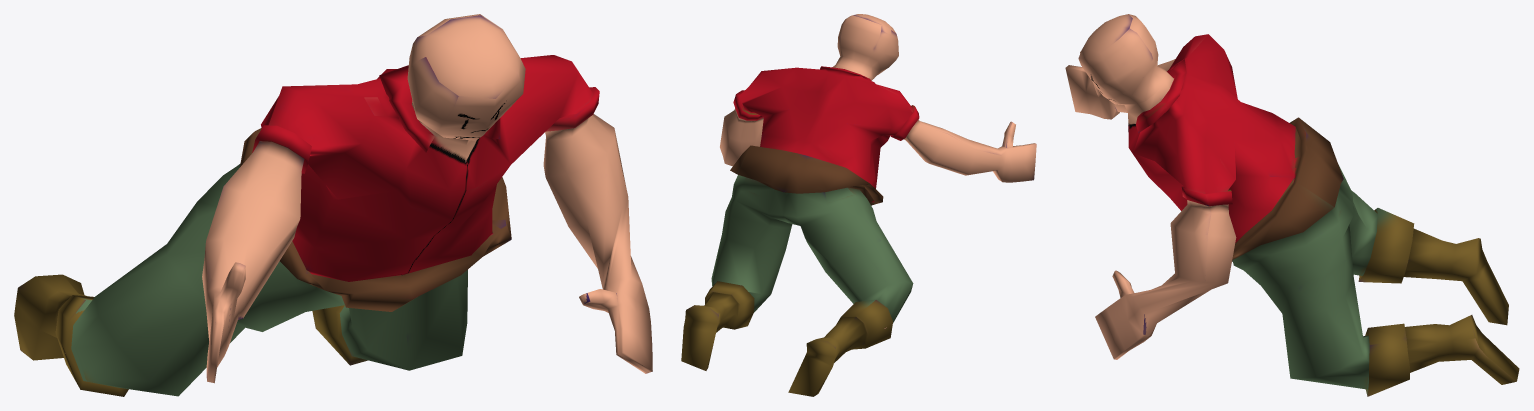
The model's file is die_1.obj.
3 views of the same model, side by side, from view 1: azimuth 30°, elevation 25°; view 2: azimuth 150°, elevation 25°; view 3: azimuth 270°, elevation 25° (orthographic). The views are drawn at different scales.
Visible parts, largest first — view 1: Default_Body_Cube; view 2: Default_Body_Cube; view 3: Default_Body_Cube.
Part boxes in pixels (x1,y1,x2,y2): Default_Body_Cube: [14, 14, 652, 396]; Default_Body_Cube: [681, 14, 1036, 396]; Default_Body_Cube: [1065, 14, 1519, 396].
Bounding box in the file's own units: 5.53 × 5.09 × 6.02.
